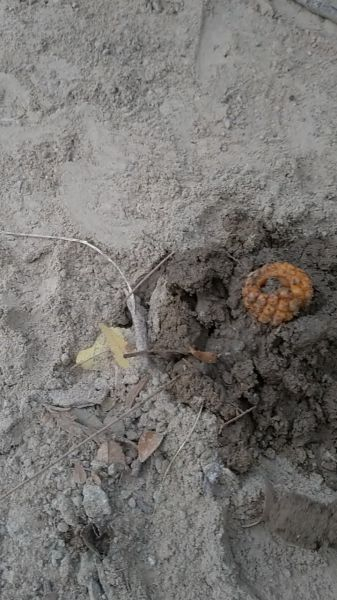eggs: (237, 259, 320, 329)
